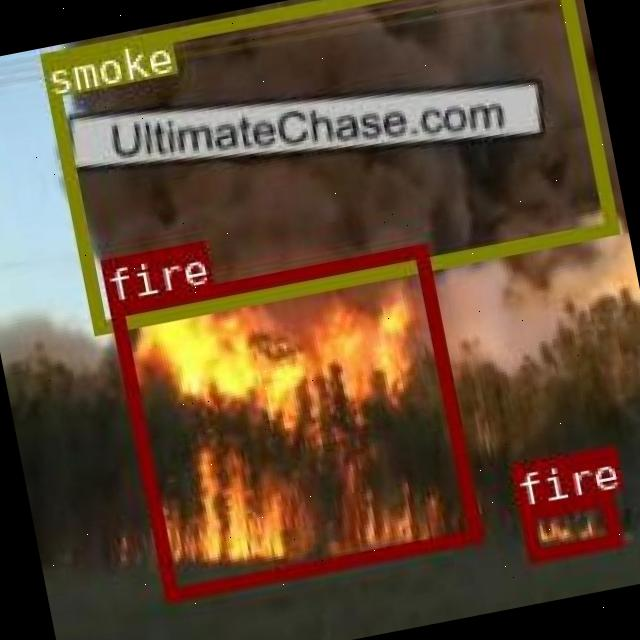fire: (107, 243, 480, 601), (516, 490, 618, 560)
smoke: (38, 0, 614, 333)
